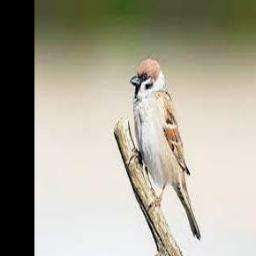Sparrow: (131, 57, 200, 239)
